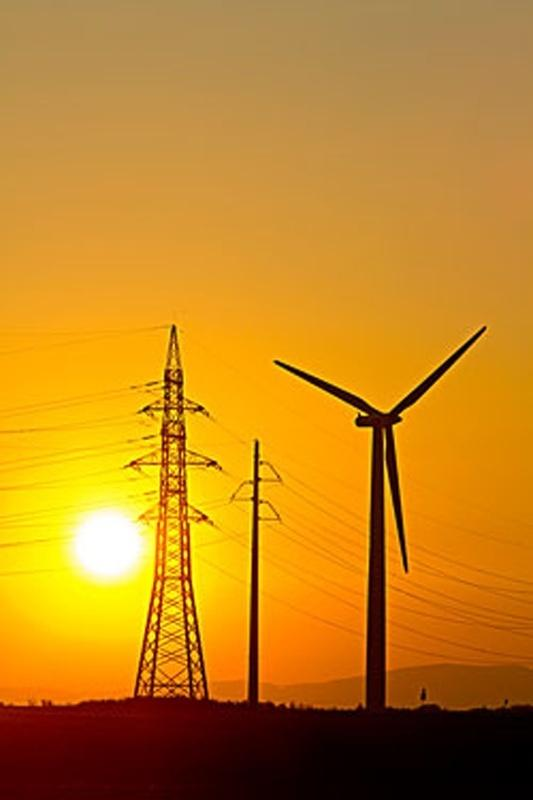power_tower: (115, 312, 209, 701)
